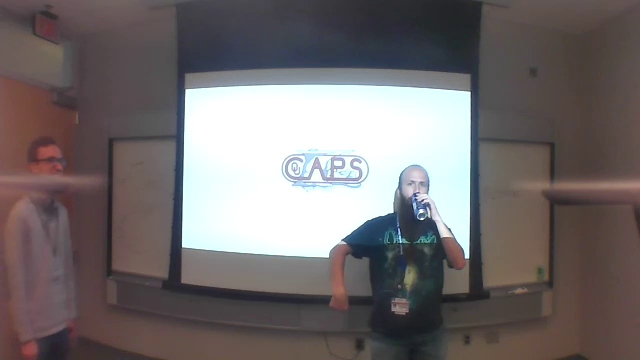down: (326, 288, 353, 318)
